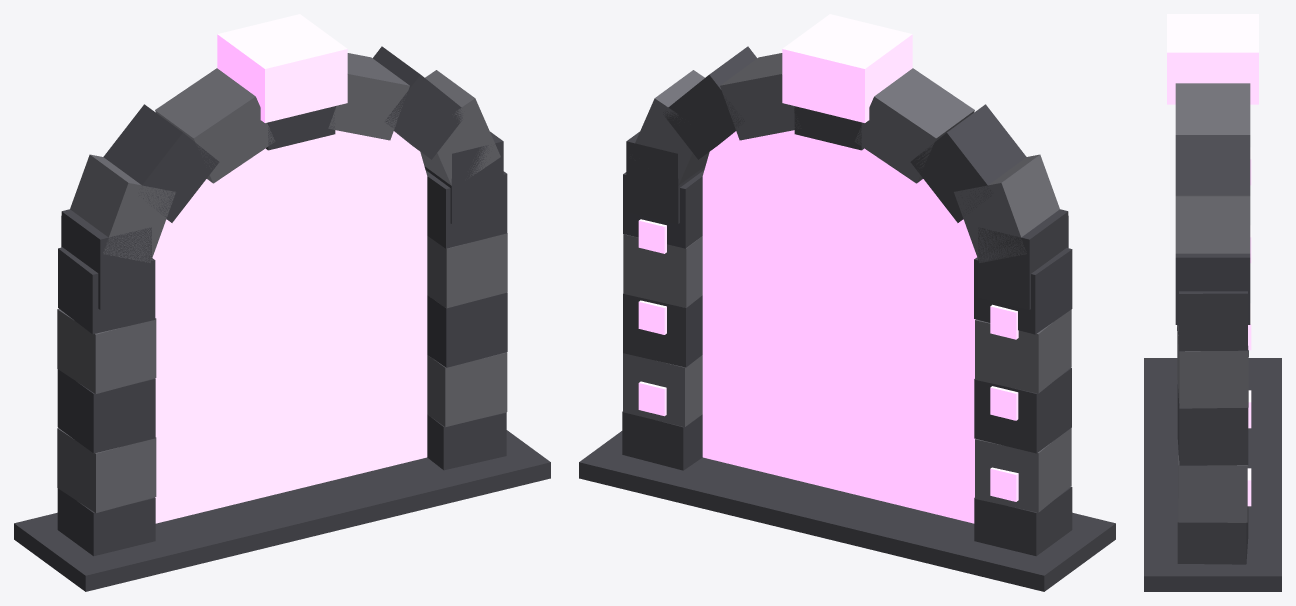
The model's file is labyrinth_gate.glb.
3 renders of one model, left to right at view 1: azimuth 30°, elevation 25°; view 2: azimuth 150°, elevation 25°; view 3: azimuth 270°, elevation 25°, orthographic. The views are drawn at different scales.
Visible parts, largest first — view 1: labyrinth_gate; view 2: labyrinth_gate; view 3: labyrinth_gate.
Boxes of the visible parts, left/top/right/bottom form: labyrinth_gate: left=14, top=14, right=550, bottom=591; labyrinth_gate: left=579, top=14, right=1115, bottom=591; labyrinth_gate: left=1144, top=14, right=1281, bottom=591.
Size of the model in its own units: 9 by 8.64 by 2.4.
Materials: 2 (1 with a texture image).
